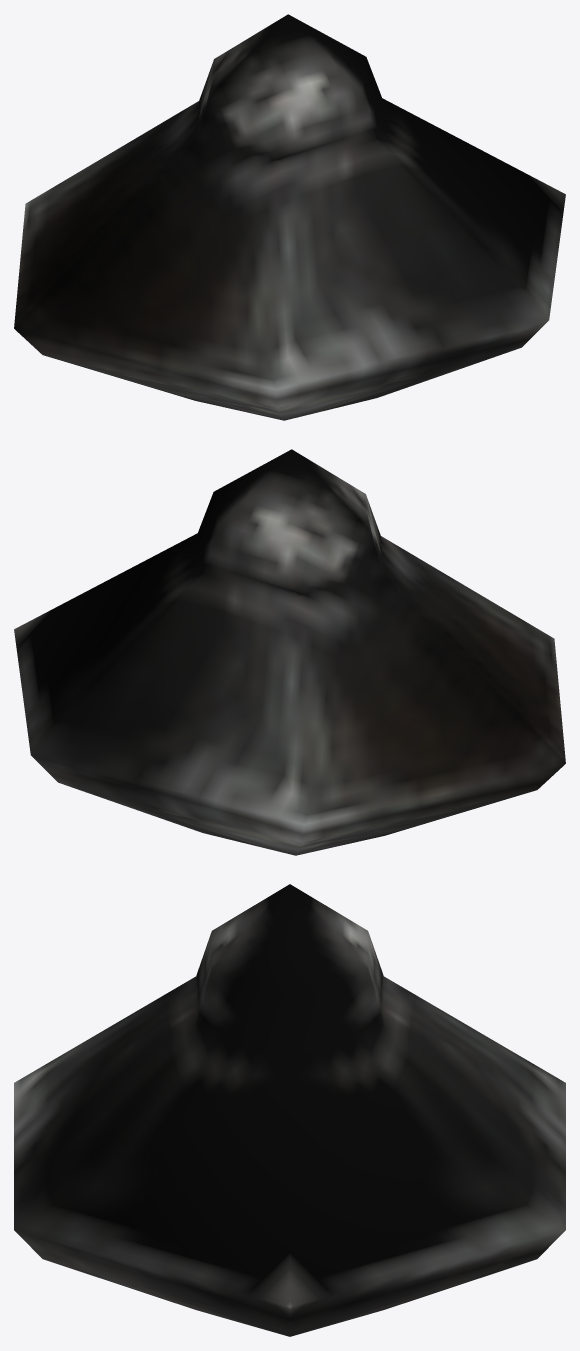
The model's file is Hugesword_tail_default.FBX.
3 views of the same model, one above another, from view 1: azimuth 30°, elevation 25°; view 2: azimuth 150°, elevation 25°; view 3: azimuth 270°, elevation 25° (orthographic). The views are drawn at different scales.
Visible parts, largest first — view 1: Hugesword_tail_default; view 2: Hugesword_tail_default; view 3: Hugesword_tail_default.
Boxes of the visible parts, bbox=[...] form: Hugesword_tail_default: bbox=[14, 14, 565, 420]; Hugesword_tail_default: bbox=[14, 449, 565, 855]; Hugesword_tail_default: bbox=[14, 884, 565, 1336].
Bounding box in the file's own units: 8.74 × 5.52 × 6.87.
1 material, 1 textured.
